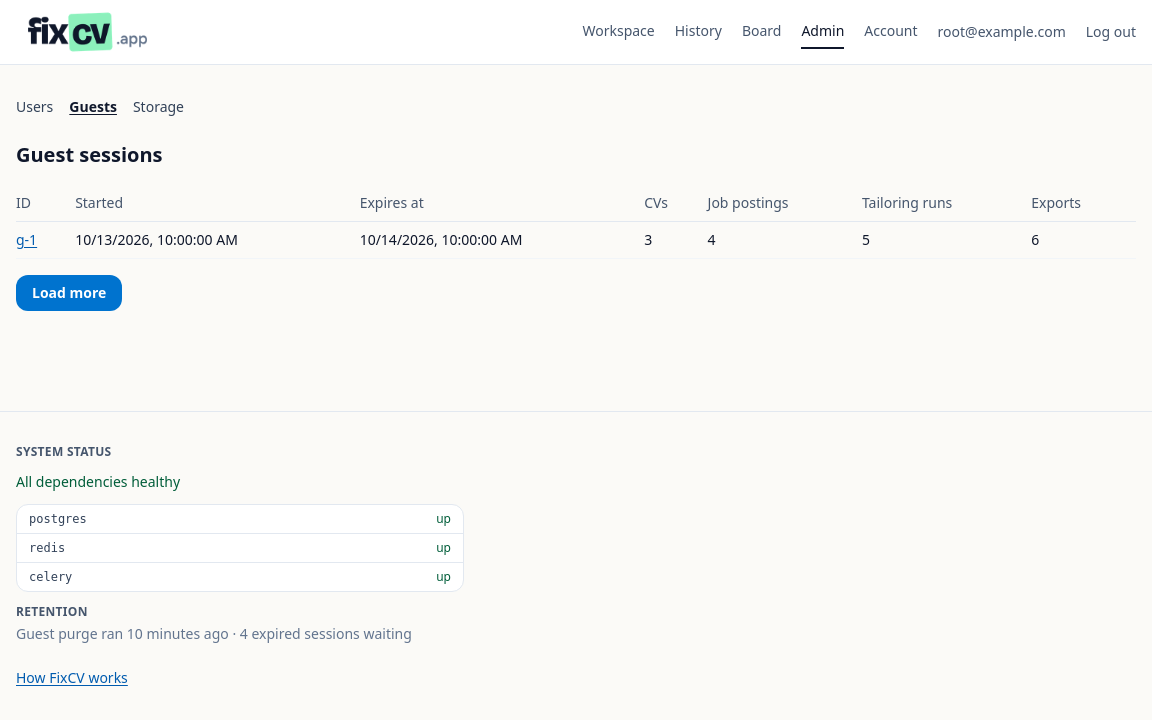
Test: the guest list — AC-32 › Load more sends the cursor, appends, and vanishes on the last page
Click the button "Load more".
click(69, 293)  # box [16,275,122,311]
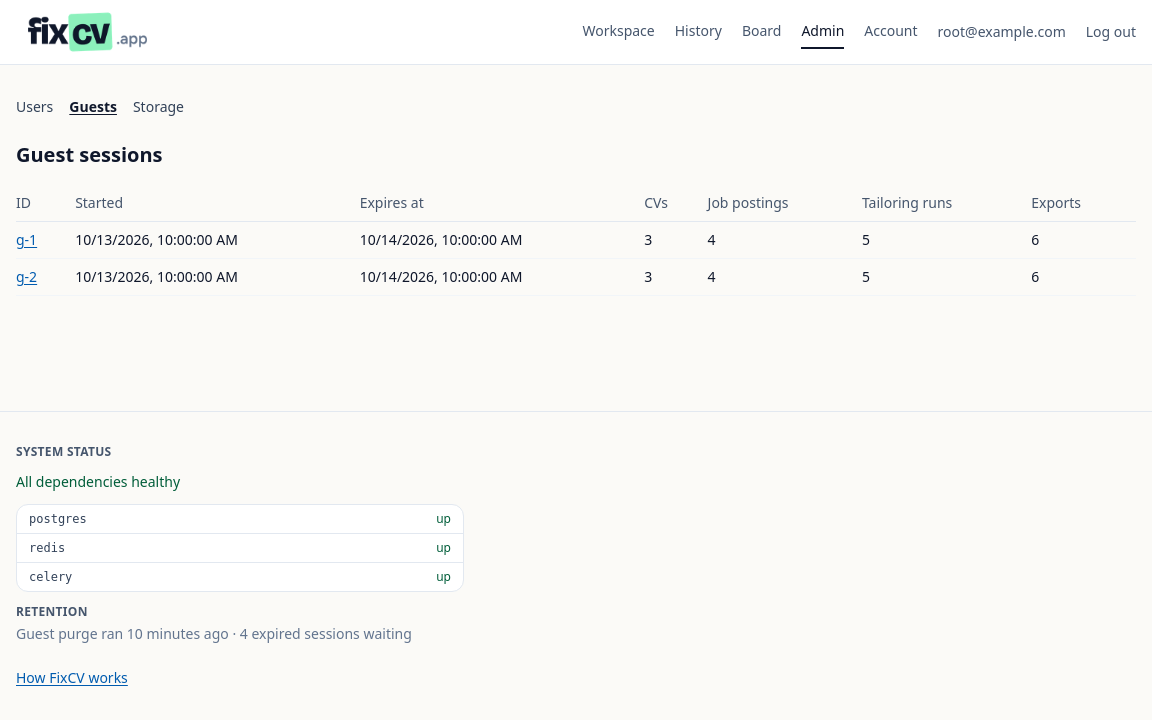
Check: the button "Load more" is gone
